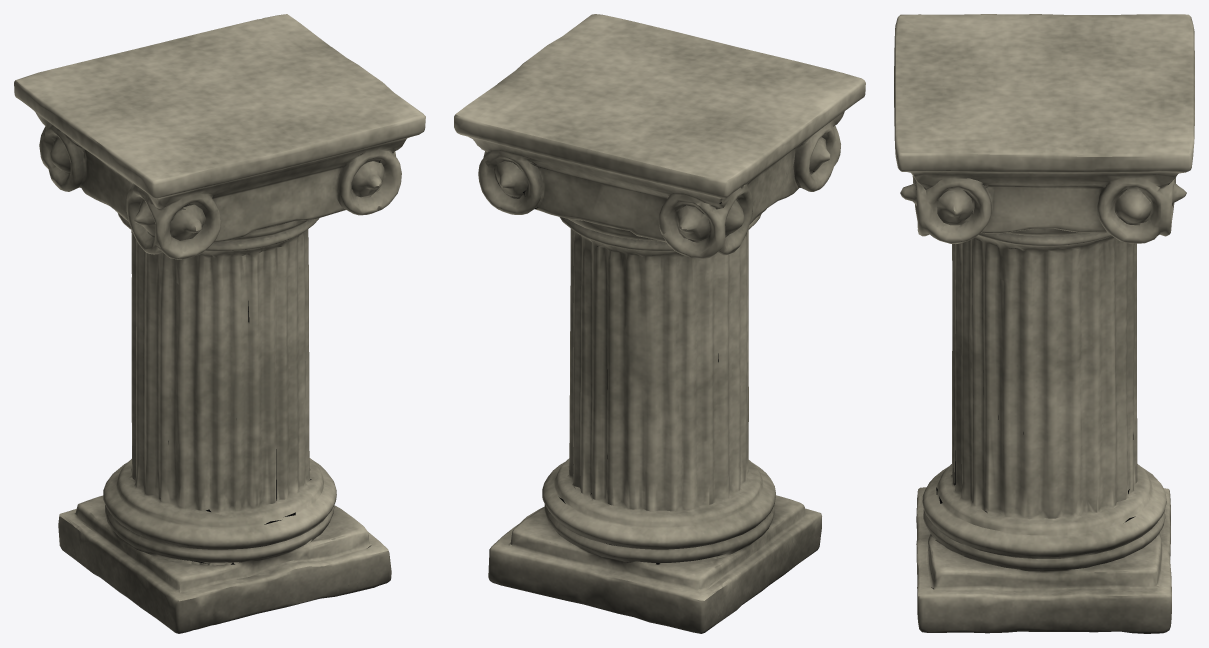
File: broken-column-v002.glb
3 views of the same model, side by side, from view 1: azimuth 30°, elevation 25°; view 2: azimuth 150°, elevation 25°; view 3: azimuth 270°, elevation 25° (orthographic). The views are drawn at different scales.
Parts seen in each view (by area): view 1: broken-column; view 2: broken-column; view 3: broken-column.
Boxes of the visible parts, box(x1,y1,x2,y2) form: broken-column: box(14, 14, 425, 633); broken-column: box(454, 14, 865, 633); broken-column: box(894, 14, 1194, 633).
Bounding box in the file's own units: 0.7345 × 1.2 × 0.6607.
Materials: 1 (1 with a texture image).
